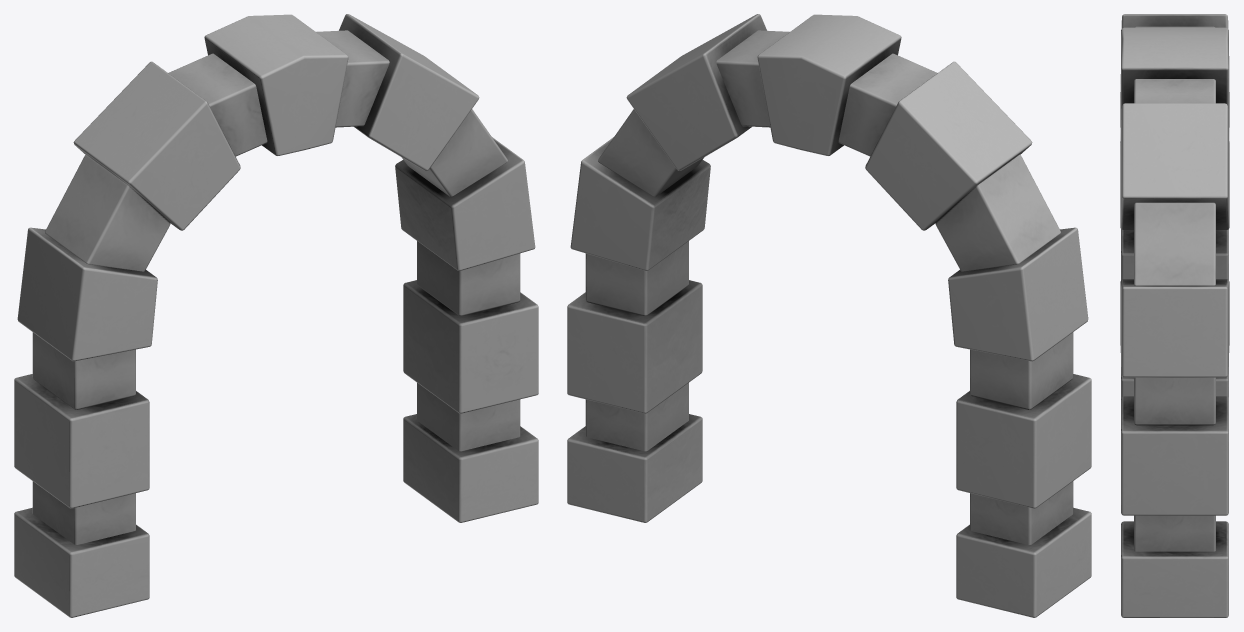
Rendered from door_arch.glb.
The picture shows the model from 3 angles, left to right: view 1: azimuth 30°, elevation 25°; view 2: azimuth 150°, elevation 25°; view 3: azimuth 270°, elevation 25°; orthographic projection. The views are drawn at different scales.
Parts seen in each view (by area): view 1: Object_3; view 2: Object_3; view 3: Object_3.
Boxes of the visible parts, x1=… form: Object_3: x1=14, y1=14, x2=538, y2=617; Object_3: x1=567, y1=14, x2=1091, y2=617; Object_3: x1=1120, y1=14, x2=1229, y2=617.
Bounding box in the file's own units: 3.68 × 3.79 × 0.7937.
1 material, 1 textured.
